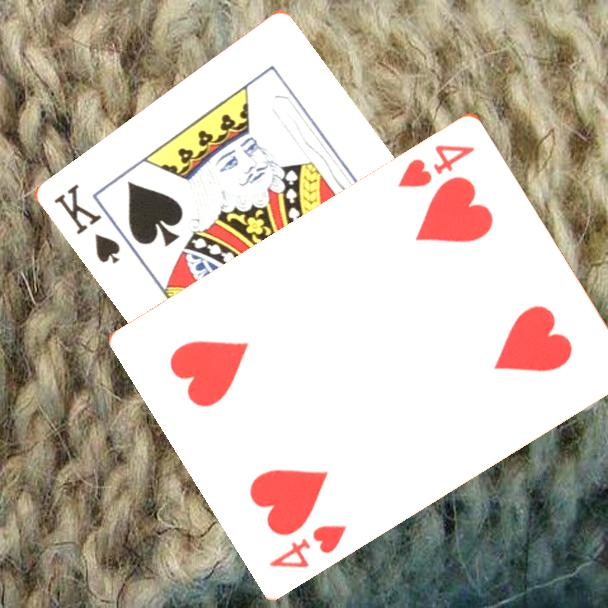h04: (265, 520, 350, 571), (394, 140, 479, 190)
s13: (49, 180, 123, 267)
